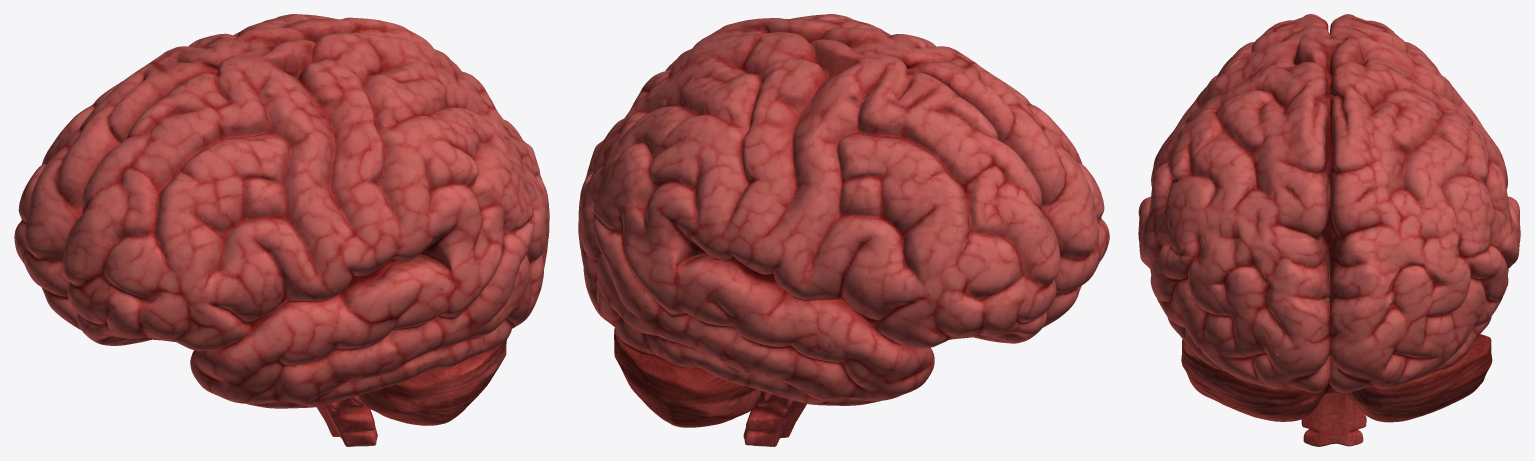
Rendered from Cerebro.glb.
3 views of the same model, side by side, from view 1: azimuth 30°, elevation 25°; view 2: azimuth 150°, elevation 25°; view 3: azimuth 270°, elevation 25° (orthographic). The views are drawn at different scales.
Visible parts, largest first — view 1: geometry_0; view 2: geometry_0; view 3: geometry_0.
Boxes of the visible parts, x1,y1,x2,y2 form: geometry_0: (14, 14, 549, 446); geometry_0: (578, 14, 1109, 446); geometry_0: (1138, 14, 1520, 446).
Size of the model in its own units: 1 by 0.8495 by 0.8009.
1 material, 1 textured.
